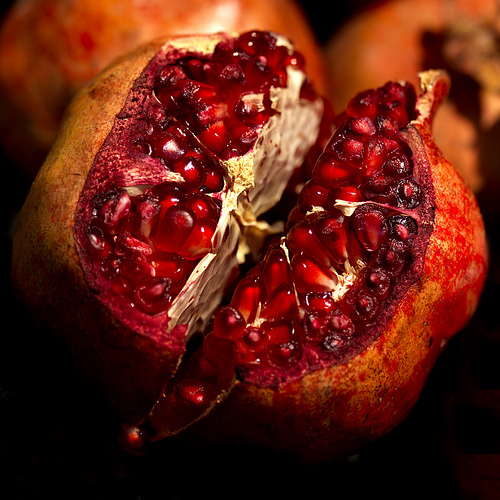pomogranate: (12, 30, 486, 453)
